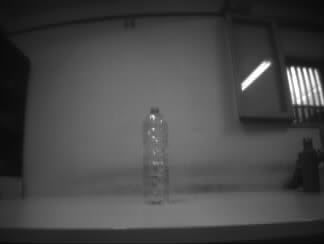Bottle: (141, 106, 169, 206)
